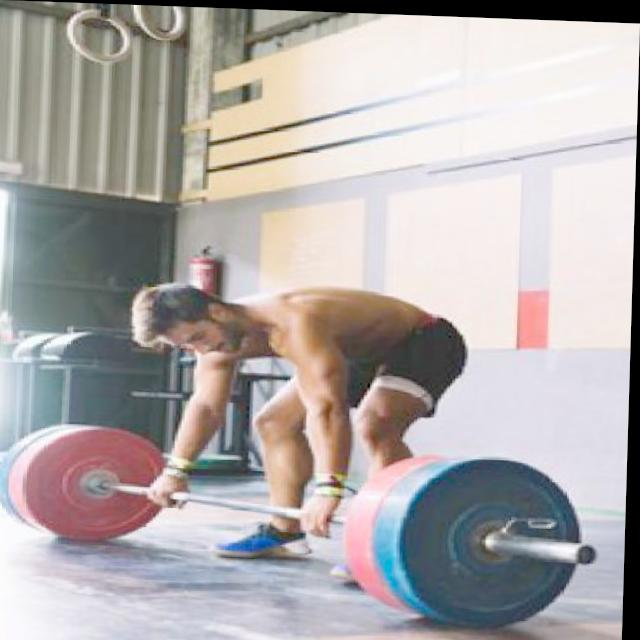barbell: (393, 445, 620, 636)
